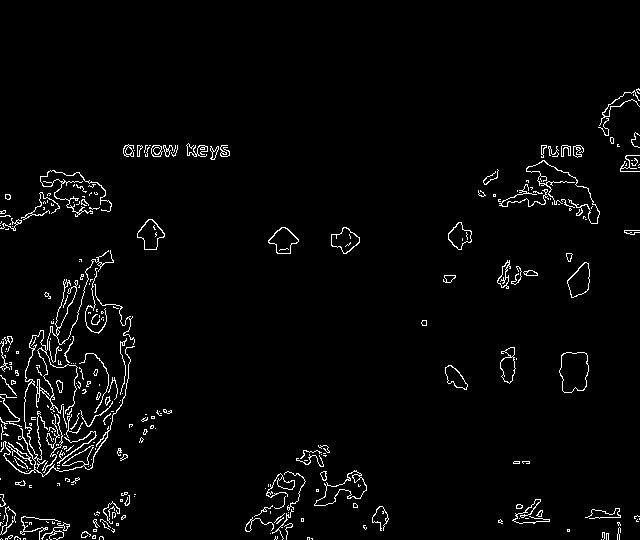rune_box: (111, 186, 527, 282)
